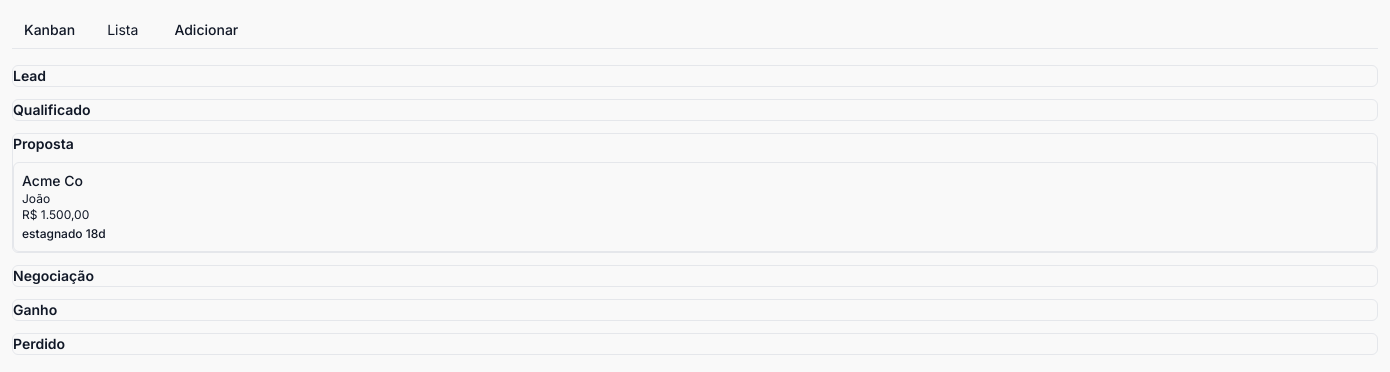
Test: FunilPanel deal value (saas-empresario-br-task-crm-ui-2 unit-2 / REQ-007) › kanban card and lista show R$ 1.500,00 not BRL 1500
This screenshot has width=1390, height=372.
Check: the button "Acme Co João R$ 1.500,00 estagnado 18d" does not show "BRL", box [13,162,1377,252]
Check: the button "Acme Co João R$ 1.500,00 estagnado 18d" does not show "BRL 1500", box [13,162,1377,252]
Click the tab with aria-label "visualização lista": (123, 30) [95,12,150,48]
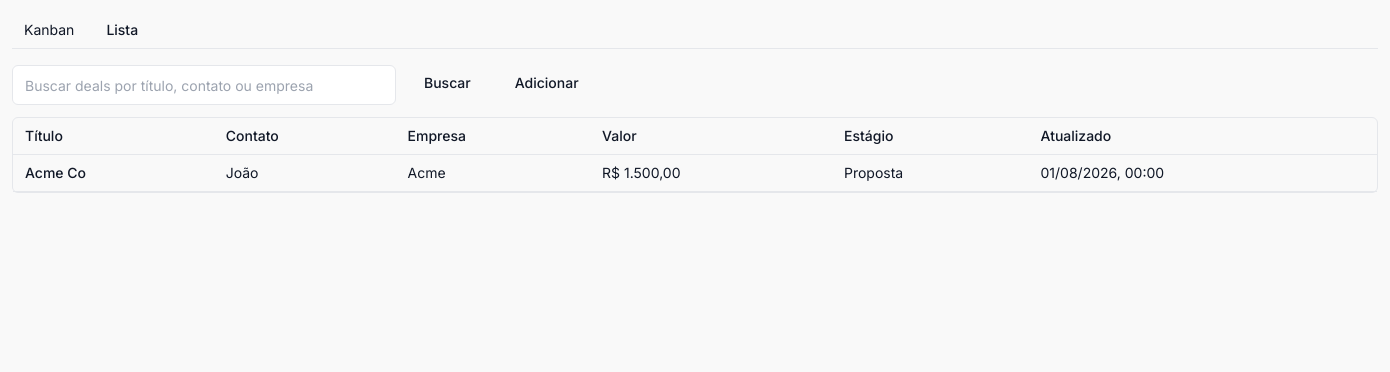
Check: the row "Acme Co João Acme R$ 1.500,00 Proposta 01/08/2026, 00:00" does not show "BRL 1500", box [13,154,1377,192]
Check: the row "Acme Co João Acme R$ 1.500,00 Proposta 01/08/2026, 00:00" is shown, box [13,154,1377,192]
